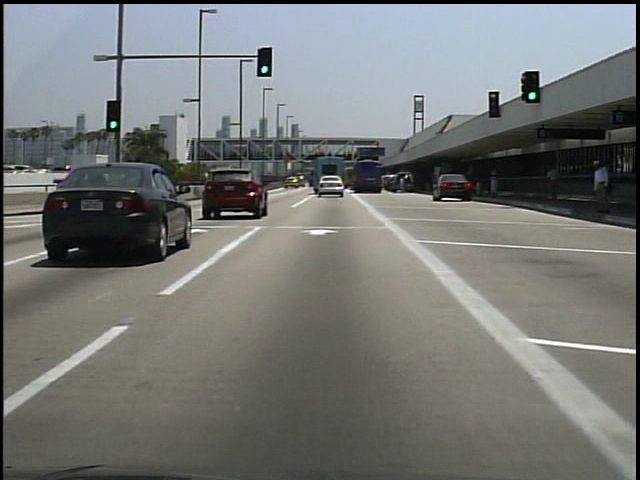person: (586, 157, 611, 221), (541, 159, 562, 206)
